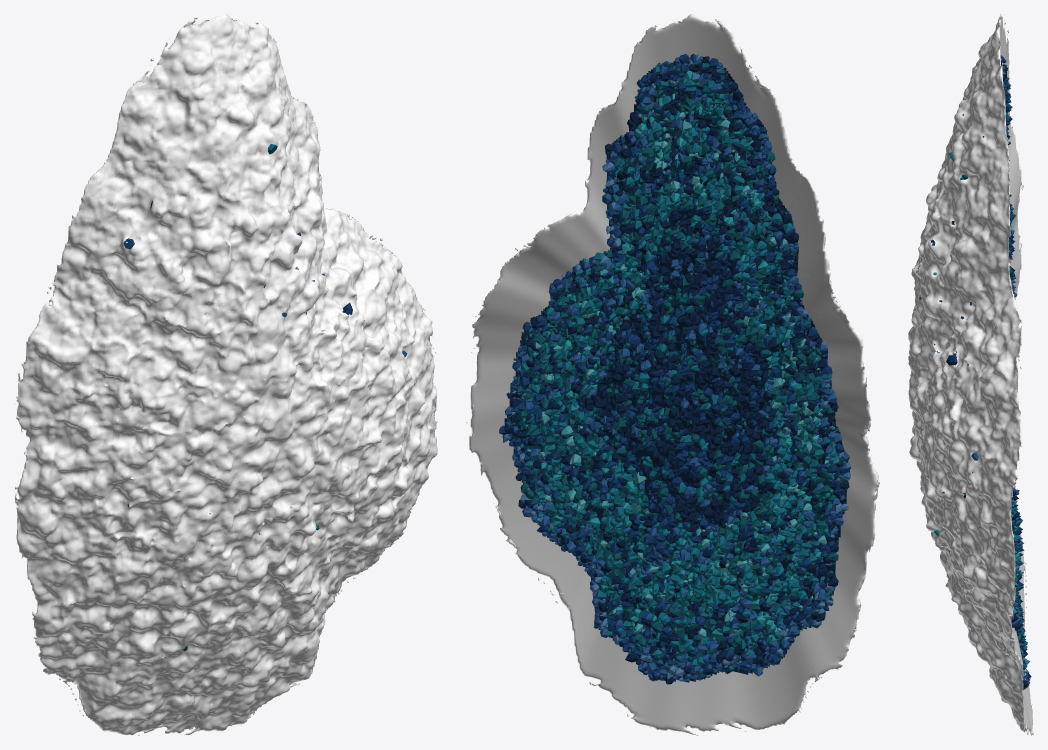
The model's file is cover.glb.
The picture shows the model from 3 angles, left to right: view 1: azimuth 30°, elevation 25°; view 2: azimuth 150°, elevation 25°; view 3: azimuth 270°, elevation 25°; orthographic projection. The views are drawn at different scales.
Parts seen in each view (by area): view 1: Geode front cover.001; view 2: Geode front cover.001; view 3: Geode front cover.001.
Boxes of the visible parts, bbox=[...] form: Geode front cover.001: bbox=[14, 14, 437, 735]; Geode front cover.001: bbox=[466, 14, 879, 735]; Geode front cover.001: bbox=[908, 14, 1033, 735].
Bounding box in the file's own units: 0.4143 × 0.6845 × 0.1126.
